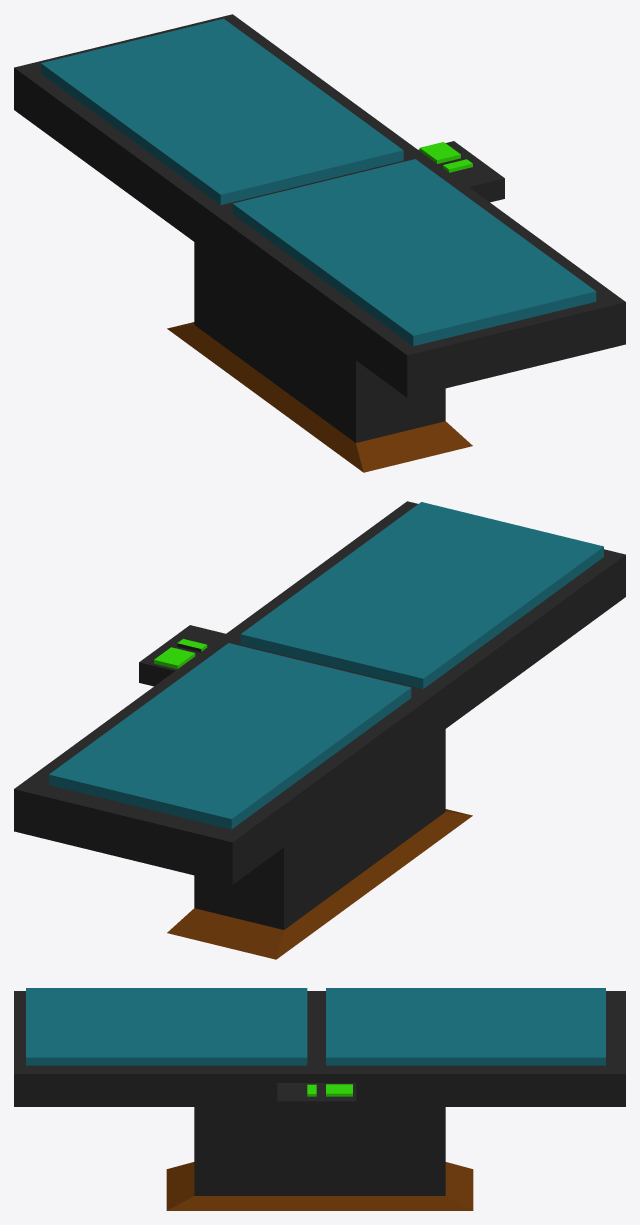
File: Camilla.fbx
3 renders of one model, top to bottom at view 1: azimuth 30°, elevation 25°; view 2: azimuth 150°, elevation 25°; view 3: azimuth 270°, elevation 25°, orthographic. The views are drawn at different scales.
Parts seen in each view (by area): view 1: Cube; view 2: Cube; view 3: Cube.
Part boxes in pixels (x1,y1,x2,y2): Cube: (14, 14, 625, 472); Cube: (14, 501, 625, 959); Cube: (14, 988, 625, 1210).
Bounding box in the file's own units: 191 × 145 × 487.
